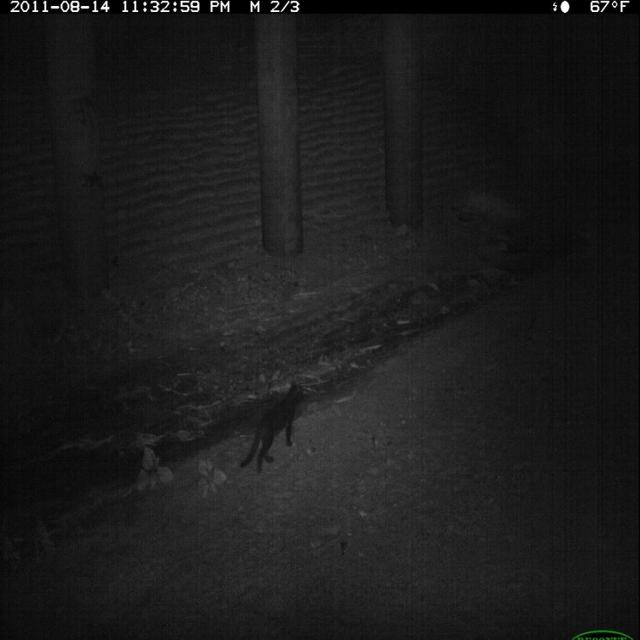cat: (235, 375, 313, 481)
